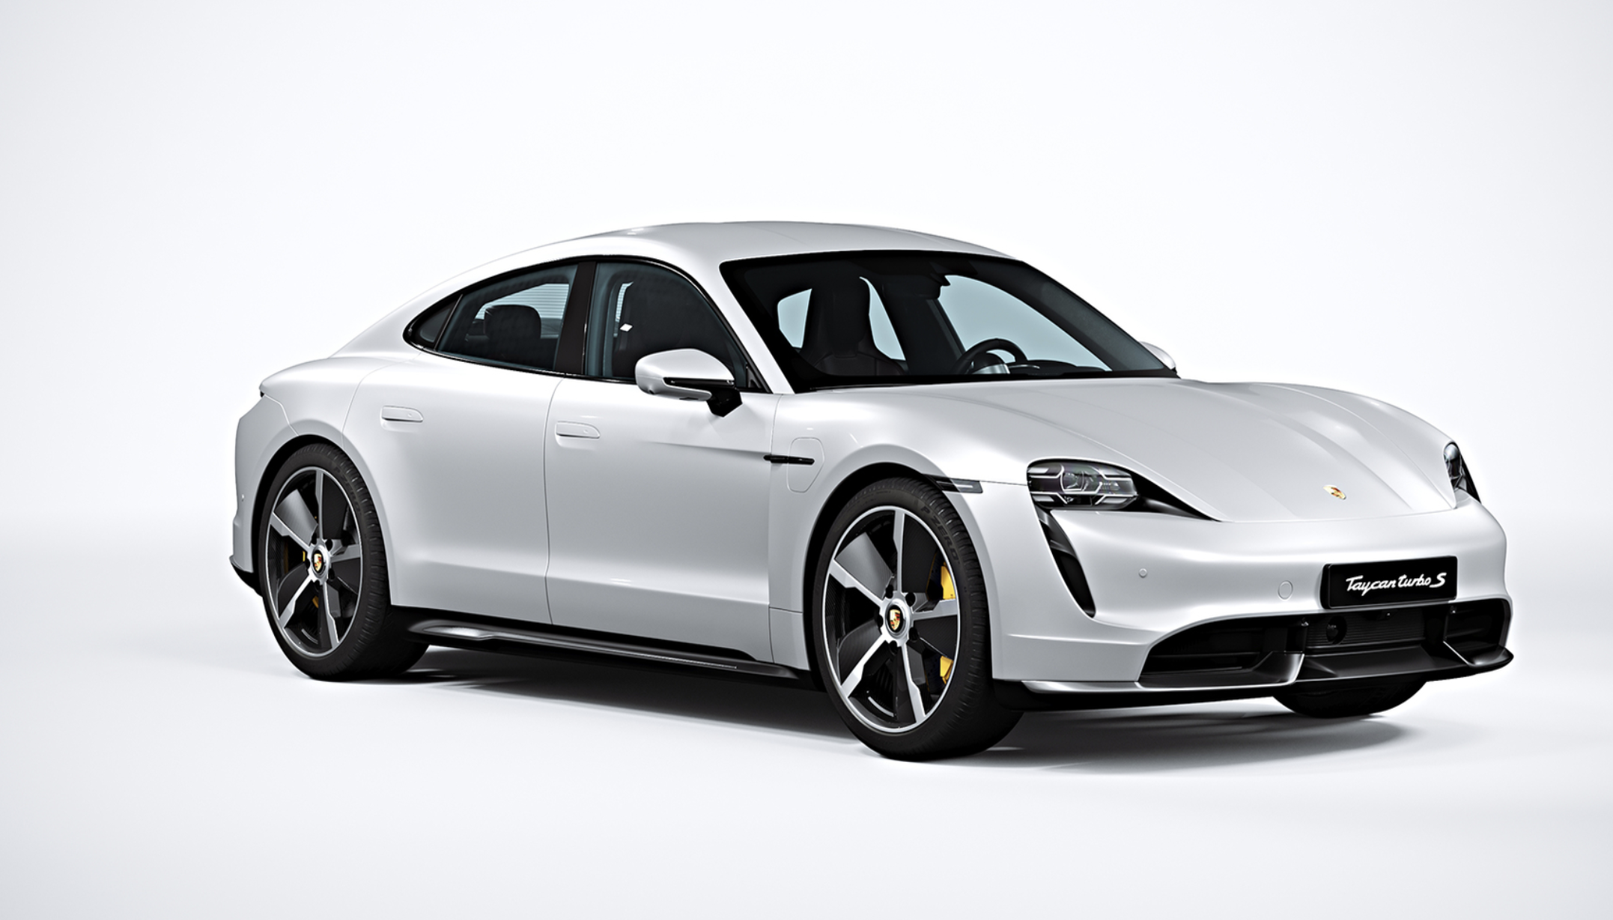hatch: (781, 433, 833, 501)
